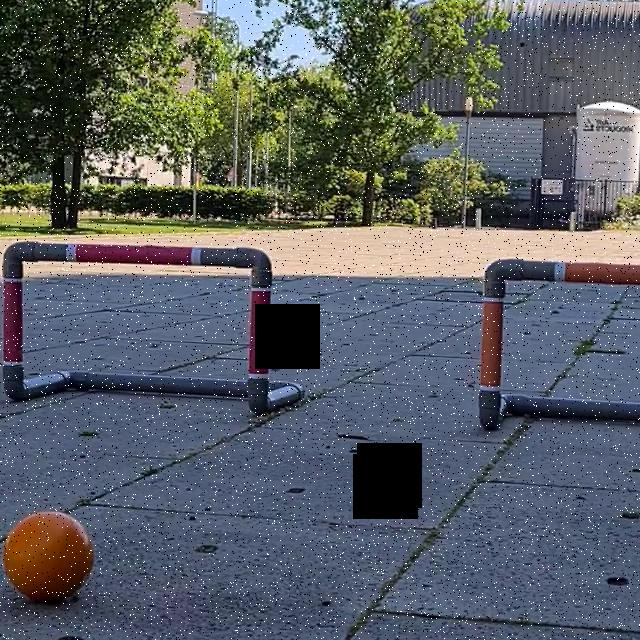ball: (0, 508, 98, 607)
